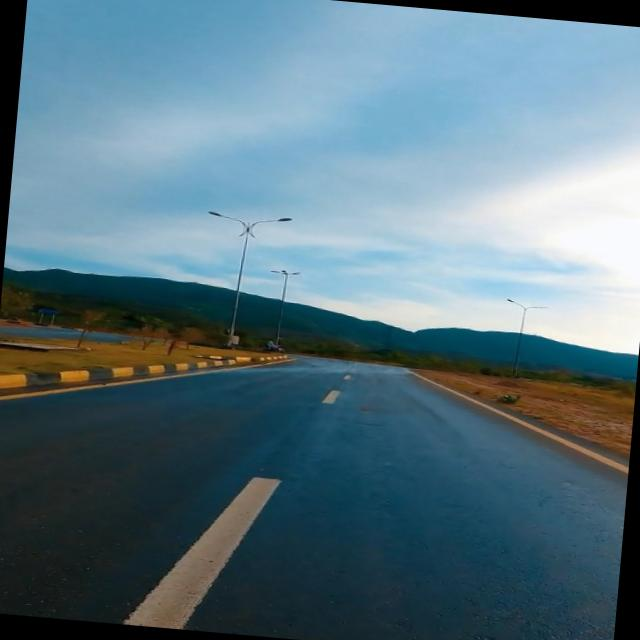asphalt: (0, 356, 629, 640)
grass: (418, 369, 635, 455), (0, 342, 252, 372)
